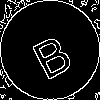B: (25, 25, 76, 81)
